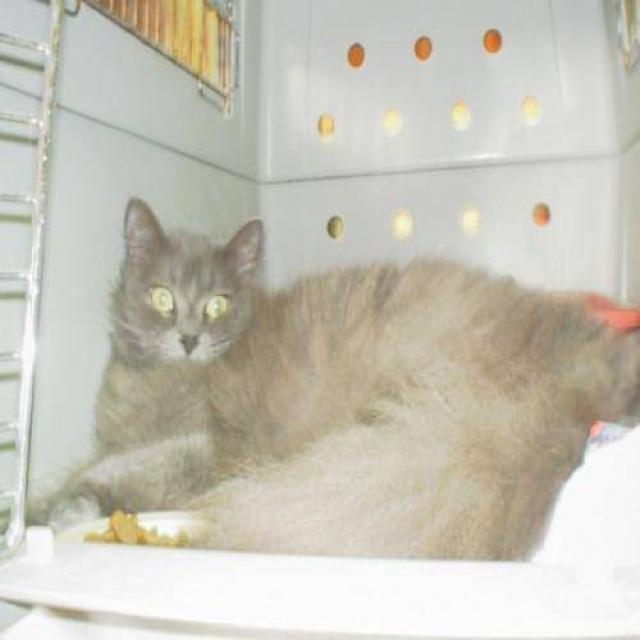cat: (27, 195, 639, 561)
